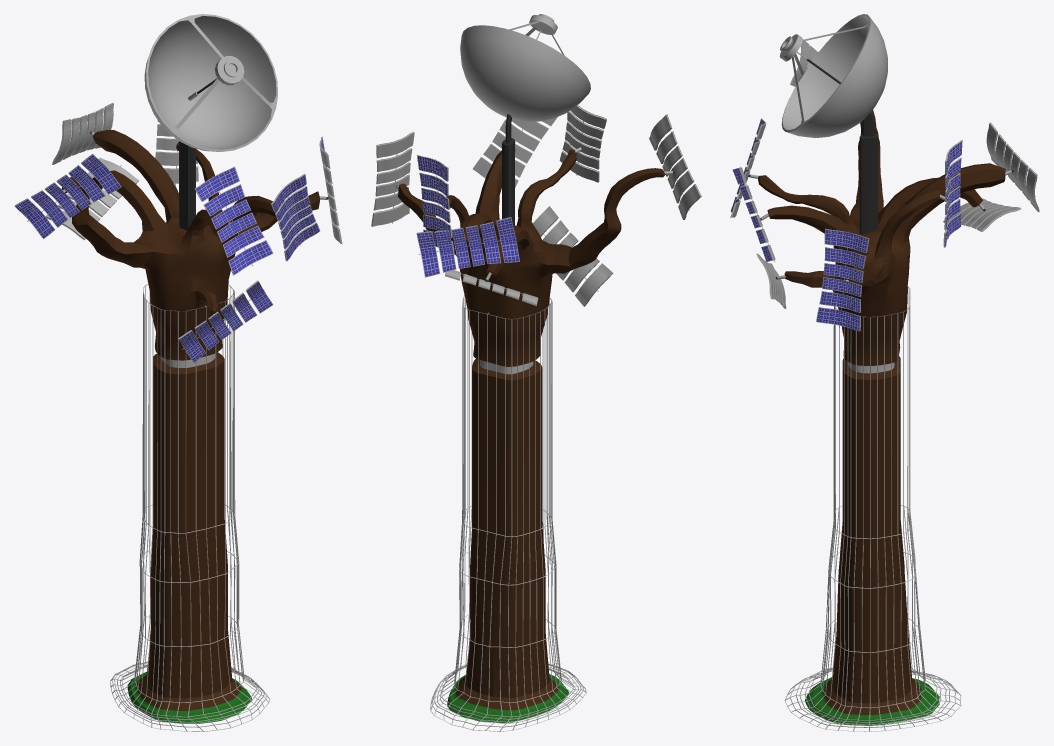
The model's file is Electric_Tree.fbx.
3 views of the same model, side by side, from view 1: azimuth 30°, elevation 25°; view 2: azimuth 150°, elevation 25°; view 3: azimuth 270°, elevation 25° (orthographic). The views are drawn at different scales.
Parts seen in each view (by area): view 1: Base, Ornament01, Tele, Plant.004, Plant.002, Plant.001, Plant, Plant.005, Plant.003, Plant.006, Plant.007; view 2: Base, Ornament01, Tele, Plant.005, Plant.007, Plant.004, Plant.002, Plant.001, Plant.006, Plant, Plant.003; view 3: Base, Ornament01, Tele, Plant.007, Plant.005, Plant.006, Plant.003, Plant, Plant.004, Plant.001.
Boxes of the visible parts, x1,y1,x2,y2 form: Base: (61,130,319,723); Ornament01: (110,284,269,731); Tele: (144,14,278,151); Plant.004: (195,166,273,275); Plant.002: (14,154,121,238); Plant.001: (178,280,273,362); Plant: (271,174,319,261); Plant.005: (52,103,113,164); Plant.003: (45,157,138,240); Plant.006: (155,120,198,185); Plant.007: (319,136,342,244); Base: (398,114,665,723); Ornament01: (430,295,586,731); Tele: (460,14,590,121); Plant.005: (416,217,519,277); Plant.007: (371,131,414,226); Plant.004: (559,105,606,182); Plant.002: (649,114,701,219); Plant.001: (532,206,613,306); Plant.006: (417,155,454,255); Plant: (473,117,557,188); Plant.003: (445,270,538,305); Base: (758,110,1005,725); Ornament01: (784,286,961,731); Tele: (779,14,887,137); Plant.007: (816,228,869,331); Plant.005: (986,122,1039,211); Plant.006: (939,140,962,247); Plant.003: (943,198,1021,231); Plant: (732,167,775,261); Plant.004: (730,118,766,217); Plant.001: (756,253,786,308).
Bounding box in the file's own units: 3.25 × 6.41 × 2.65.
